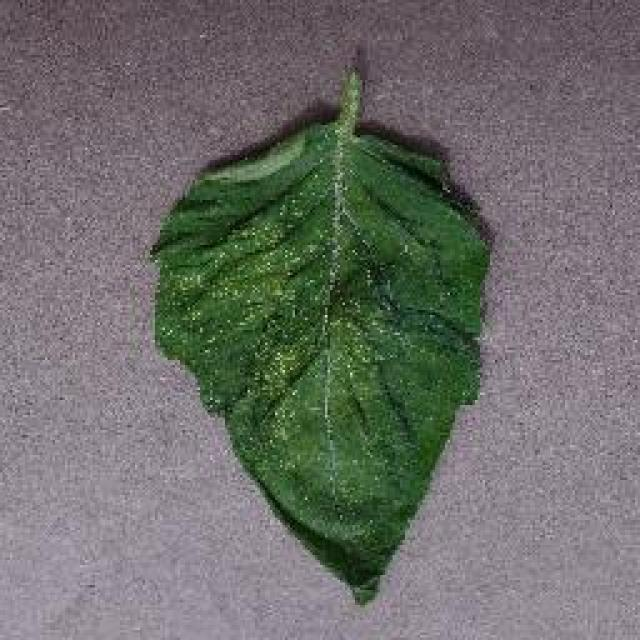Tomato___Spider_mites Two-spotted_spider_mite: (152, 72, 488, 600)
